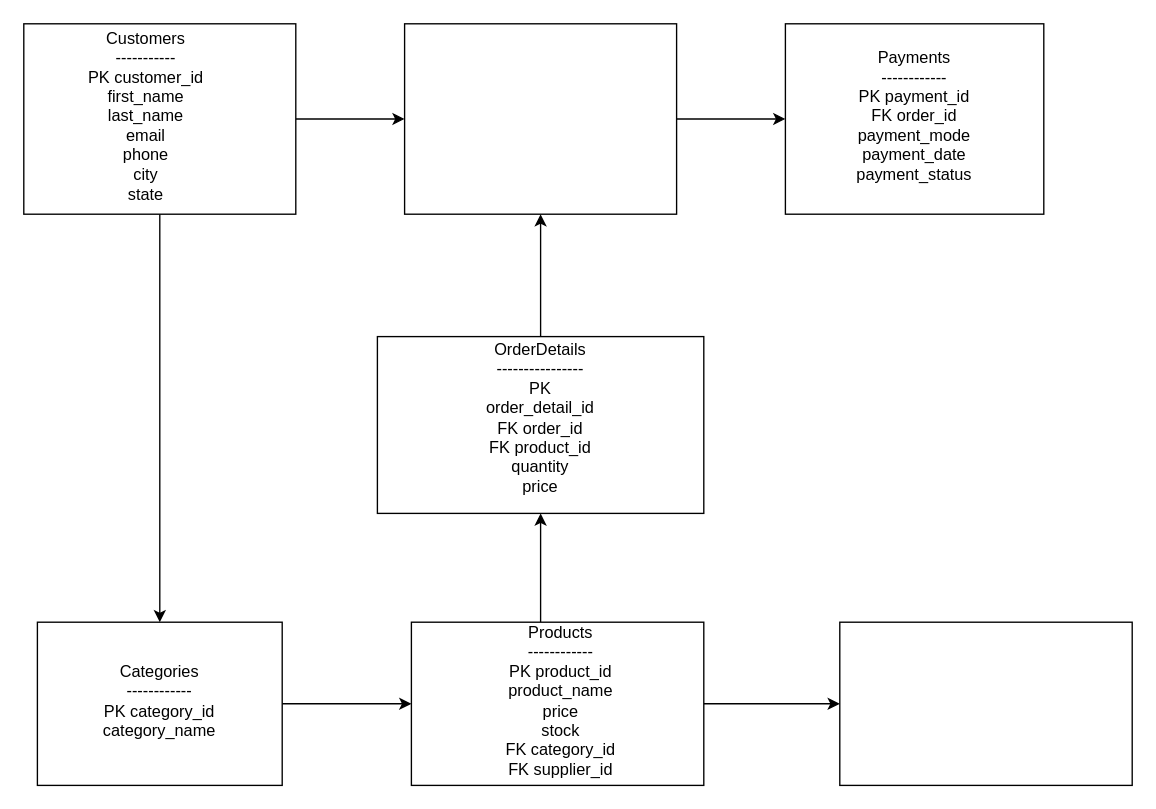
Image size: 1156x809. Some labels were removed from this diagram. Here are the shapes that lost their labels. From the top down, the centre of each, then its label:
At pixel 540 118: "Orders ------------ PK order_id FK customer_id order_date total_amount".
At pixel 985 703: "Suppliers ----------- PK supplier_id supplier_name contact_number".
